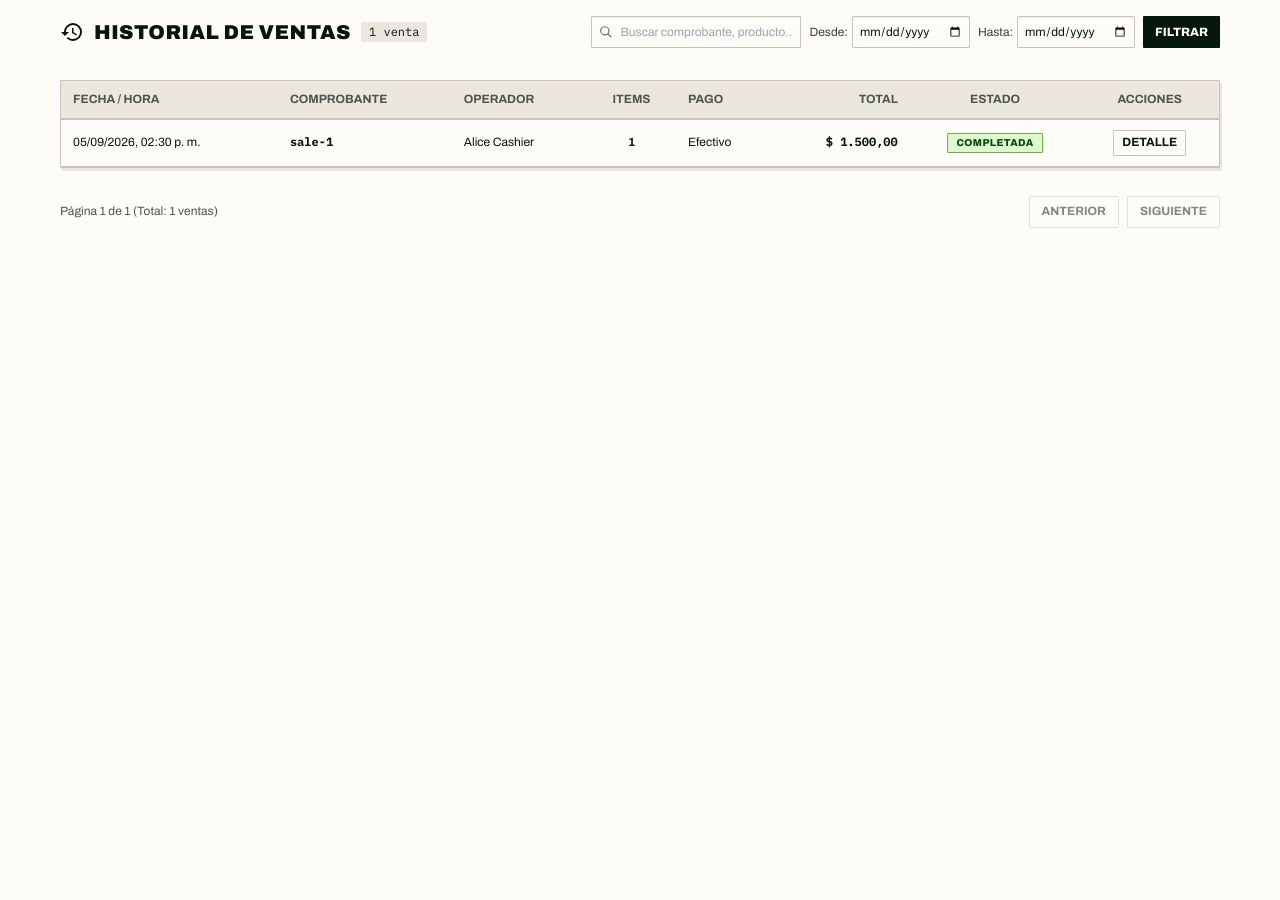
Test case: SalesHistoryScreen › shows complete adjustment audit details to cashiers while keeping actions hidden
Click the button "DETALLE": (1150,143) 1113,130 -> 1186,156
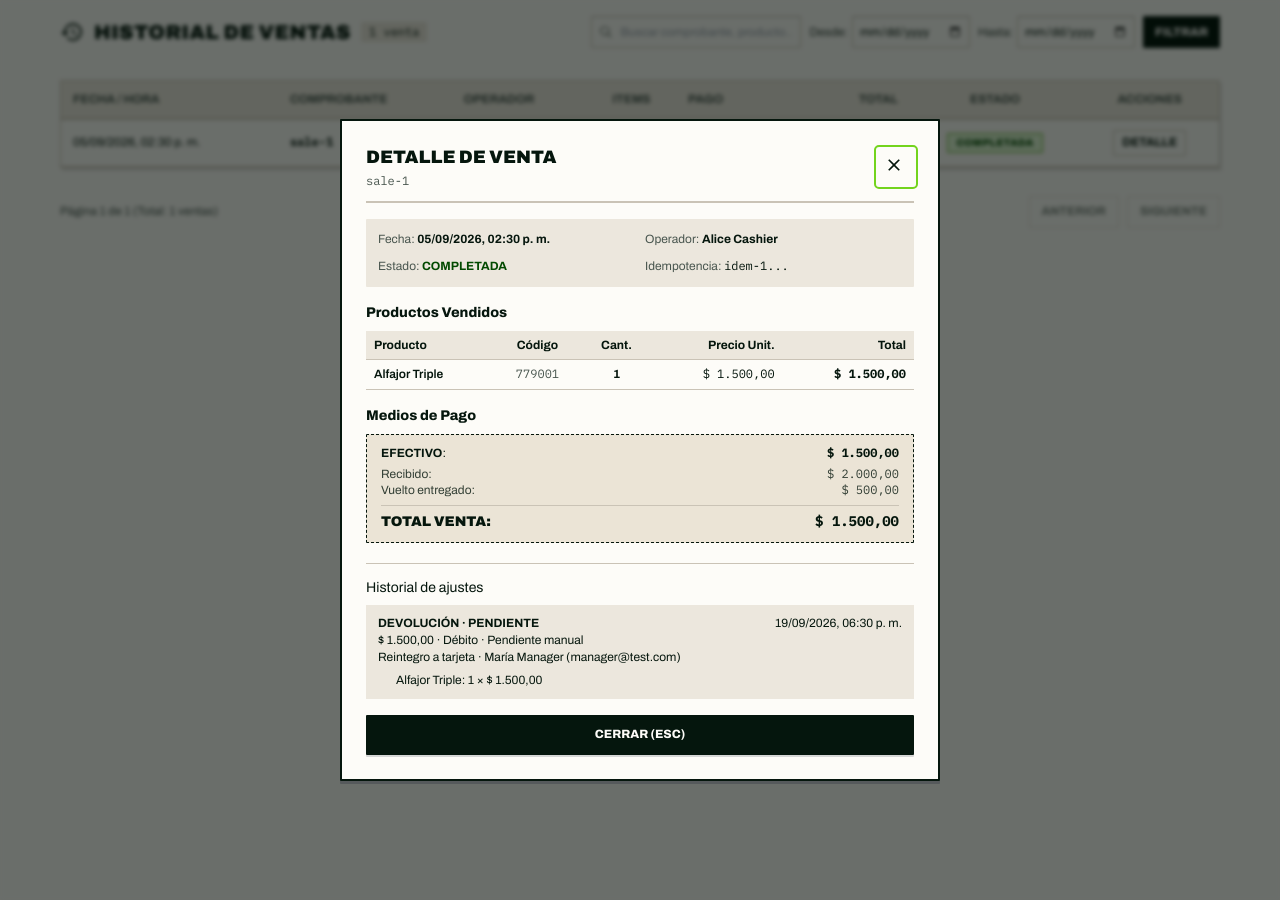
Now the element "Historial de ajustes" shows "Reintegro a tarjeta", box 378,650 -> 475,664
Now the element "Historial de ajustes" shows "María Manager", box 484,650 -> 564,664
Now the element "Historial de ajustes" shows "Débito", box 443,633 -> 478,647
